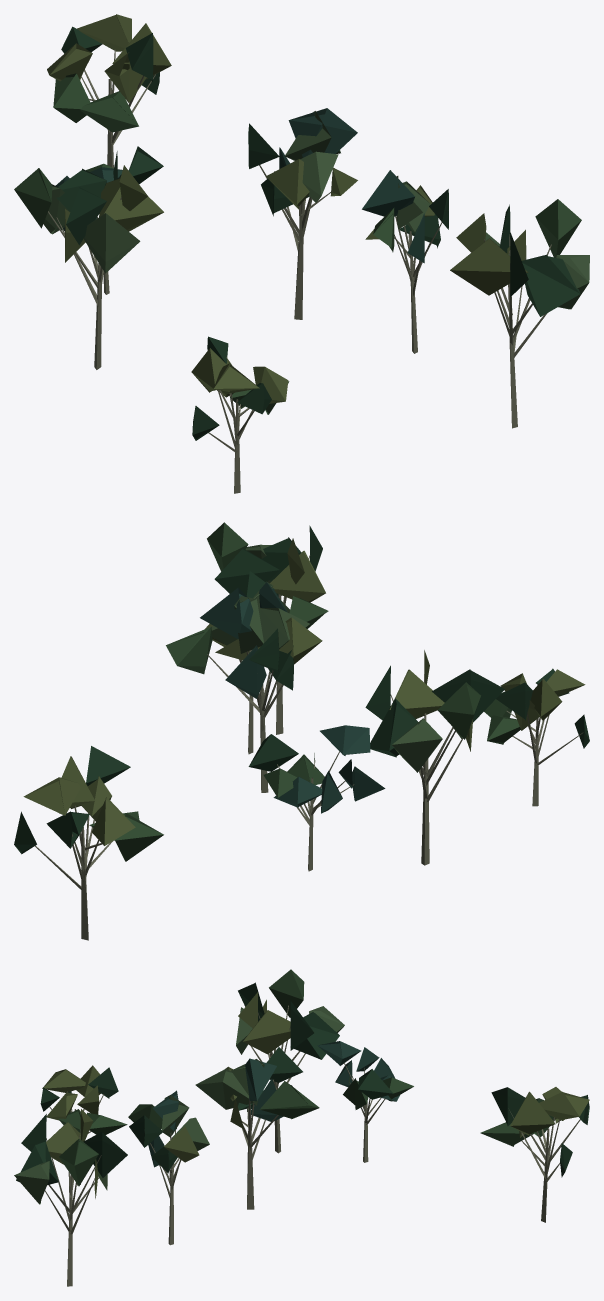
The model's file is forest_19_19.dae.
3 views of the same model, one above another, from view 1: azimuth 30°, elevation 25°; view 2: azimuth 150°, elevation 25°; view 3: azimuth 270°, elevation 25° (orthographic). The views are drawn at different scales.
Visible parts, largest first — view 1: Node; view 2: Node; view 3: Node.
Part boxes in pixels (left/top/right/bottom): Node: left=14, top=14, right=589, bottom=493; Node: left=14, top=522, right=589, bottom=940; Node: left=14, top=969, right=589, bottom=1286.
Bounding box in the file's own units: 6.08 × 9.1 × 3.54.
